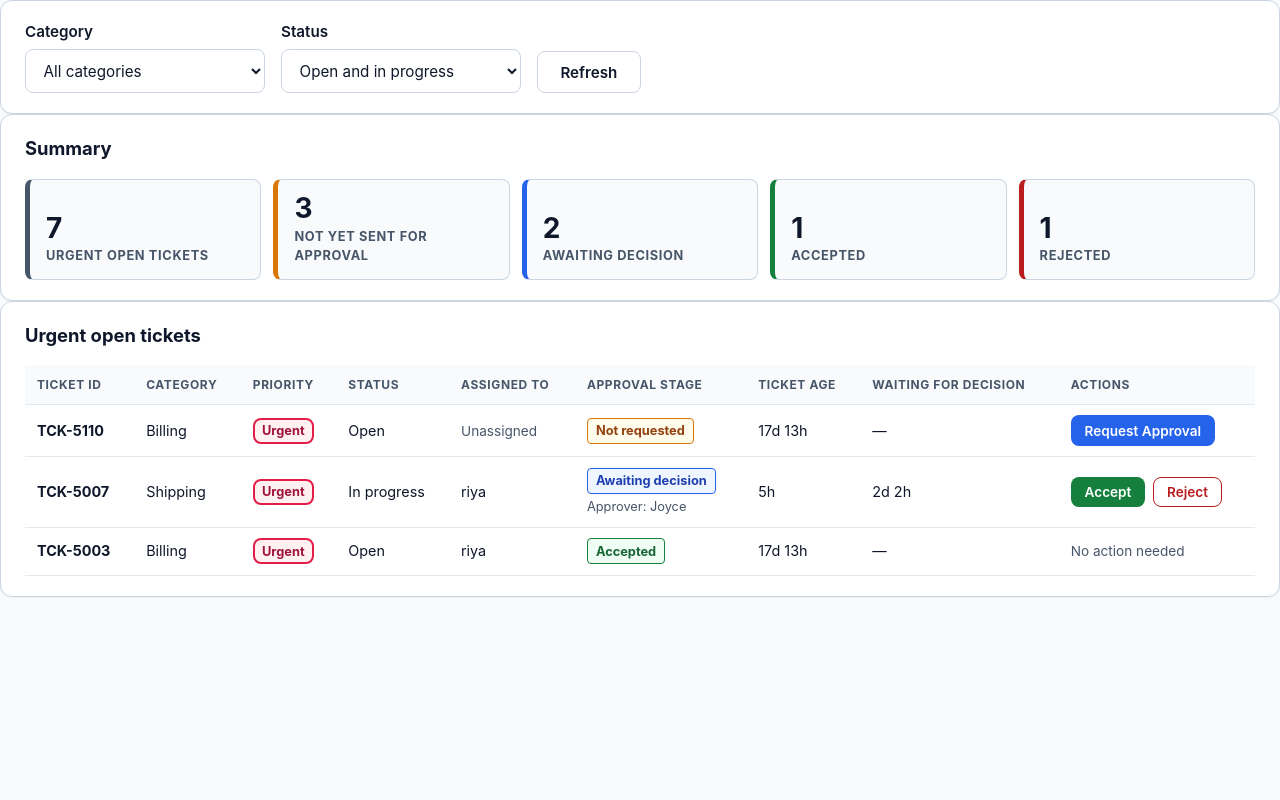
Scenario: Escalation Tracker › shows an empty state when no tickets match the filters
The width and height of the screenshot is (1280, 800).
Check: the row with test id "ticket-row-TCK-5110" is shown, box [25,405,1255,457]
Select "Shipping" in the dropdown labelled "Category" at (145,71), box [25,49,265,93]
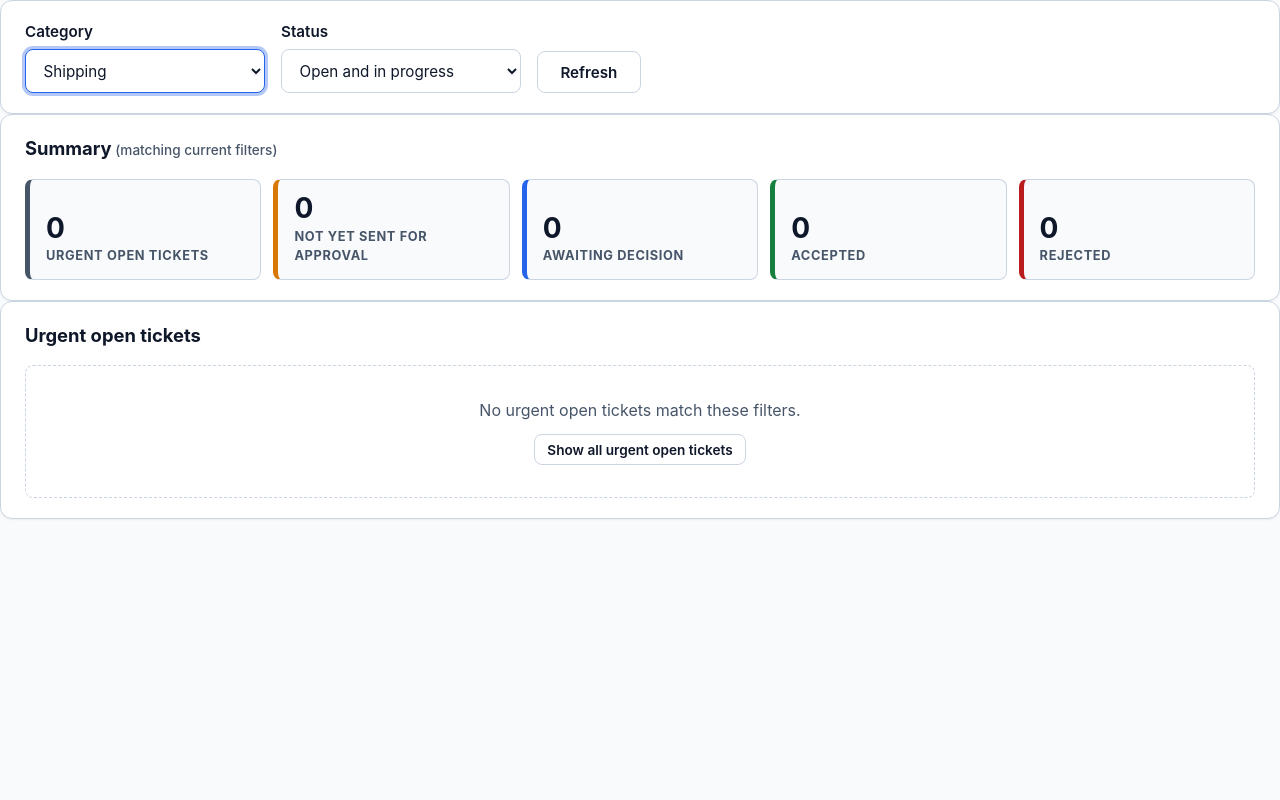
Check: the text "No urgent open tickets match these filters." is shown, box [479,398,801,422]
Check: the element with test id "stat-total" shows "0", box [46,211,65,245]
Click the button "Show all urgent open tickets".
click(640, 450)  # box [534,434,746,465]
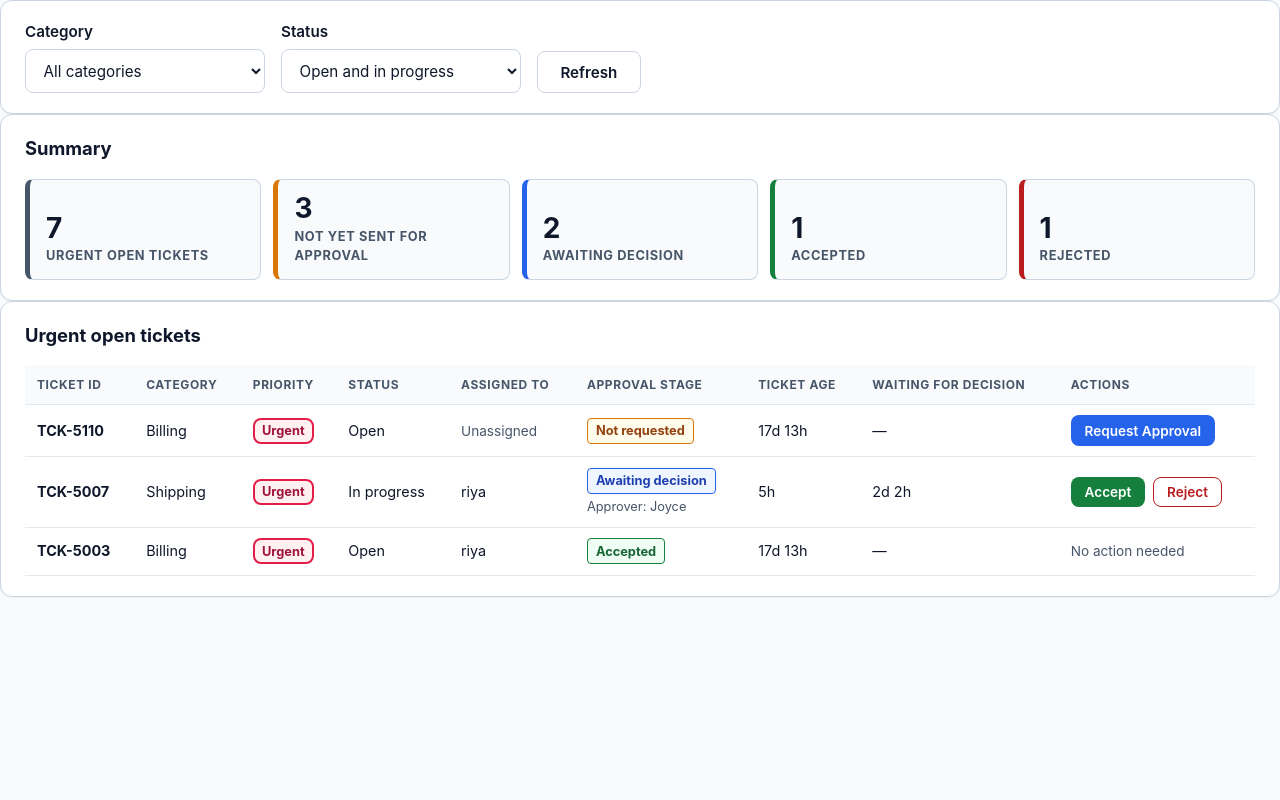
Check: the row with test id "ticket-row-TCK-5110" is shown, box [25,405,1255,457]
